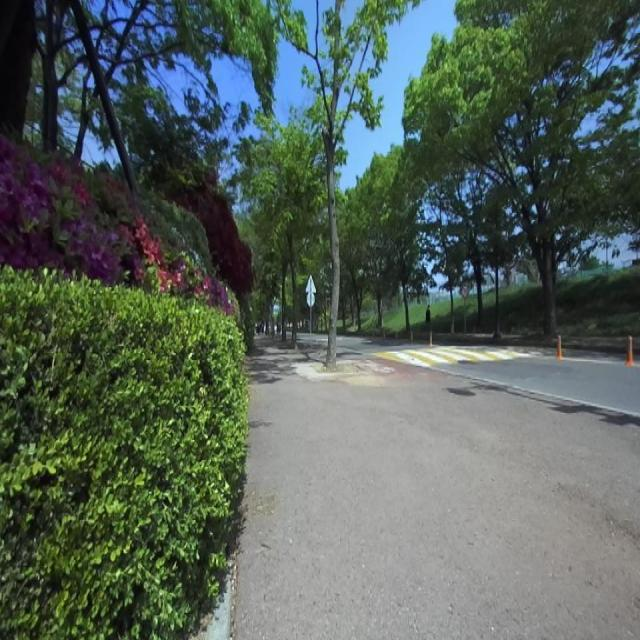sidewalk: (233, 340, 640, 639), (299, 342, 326, 408), (348, 355, 424, 376), (337, 348, 367, 359)
